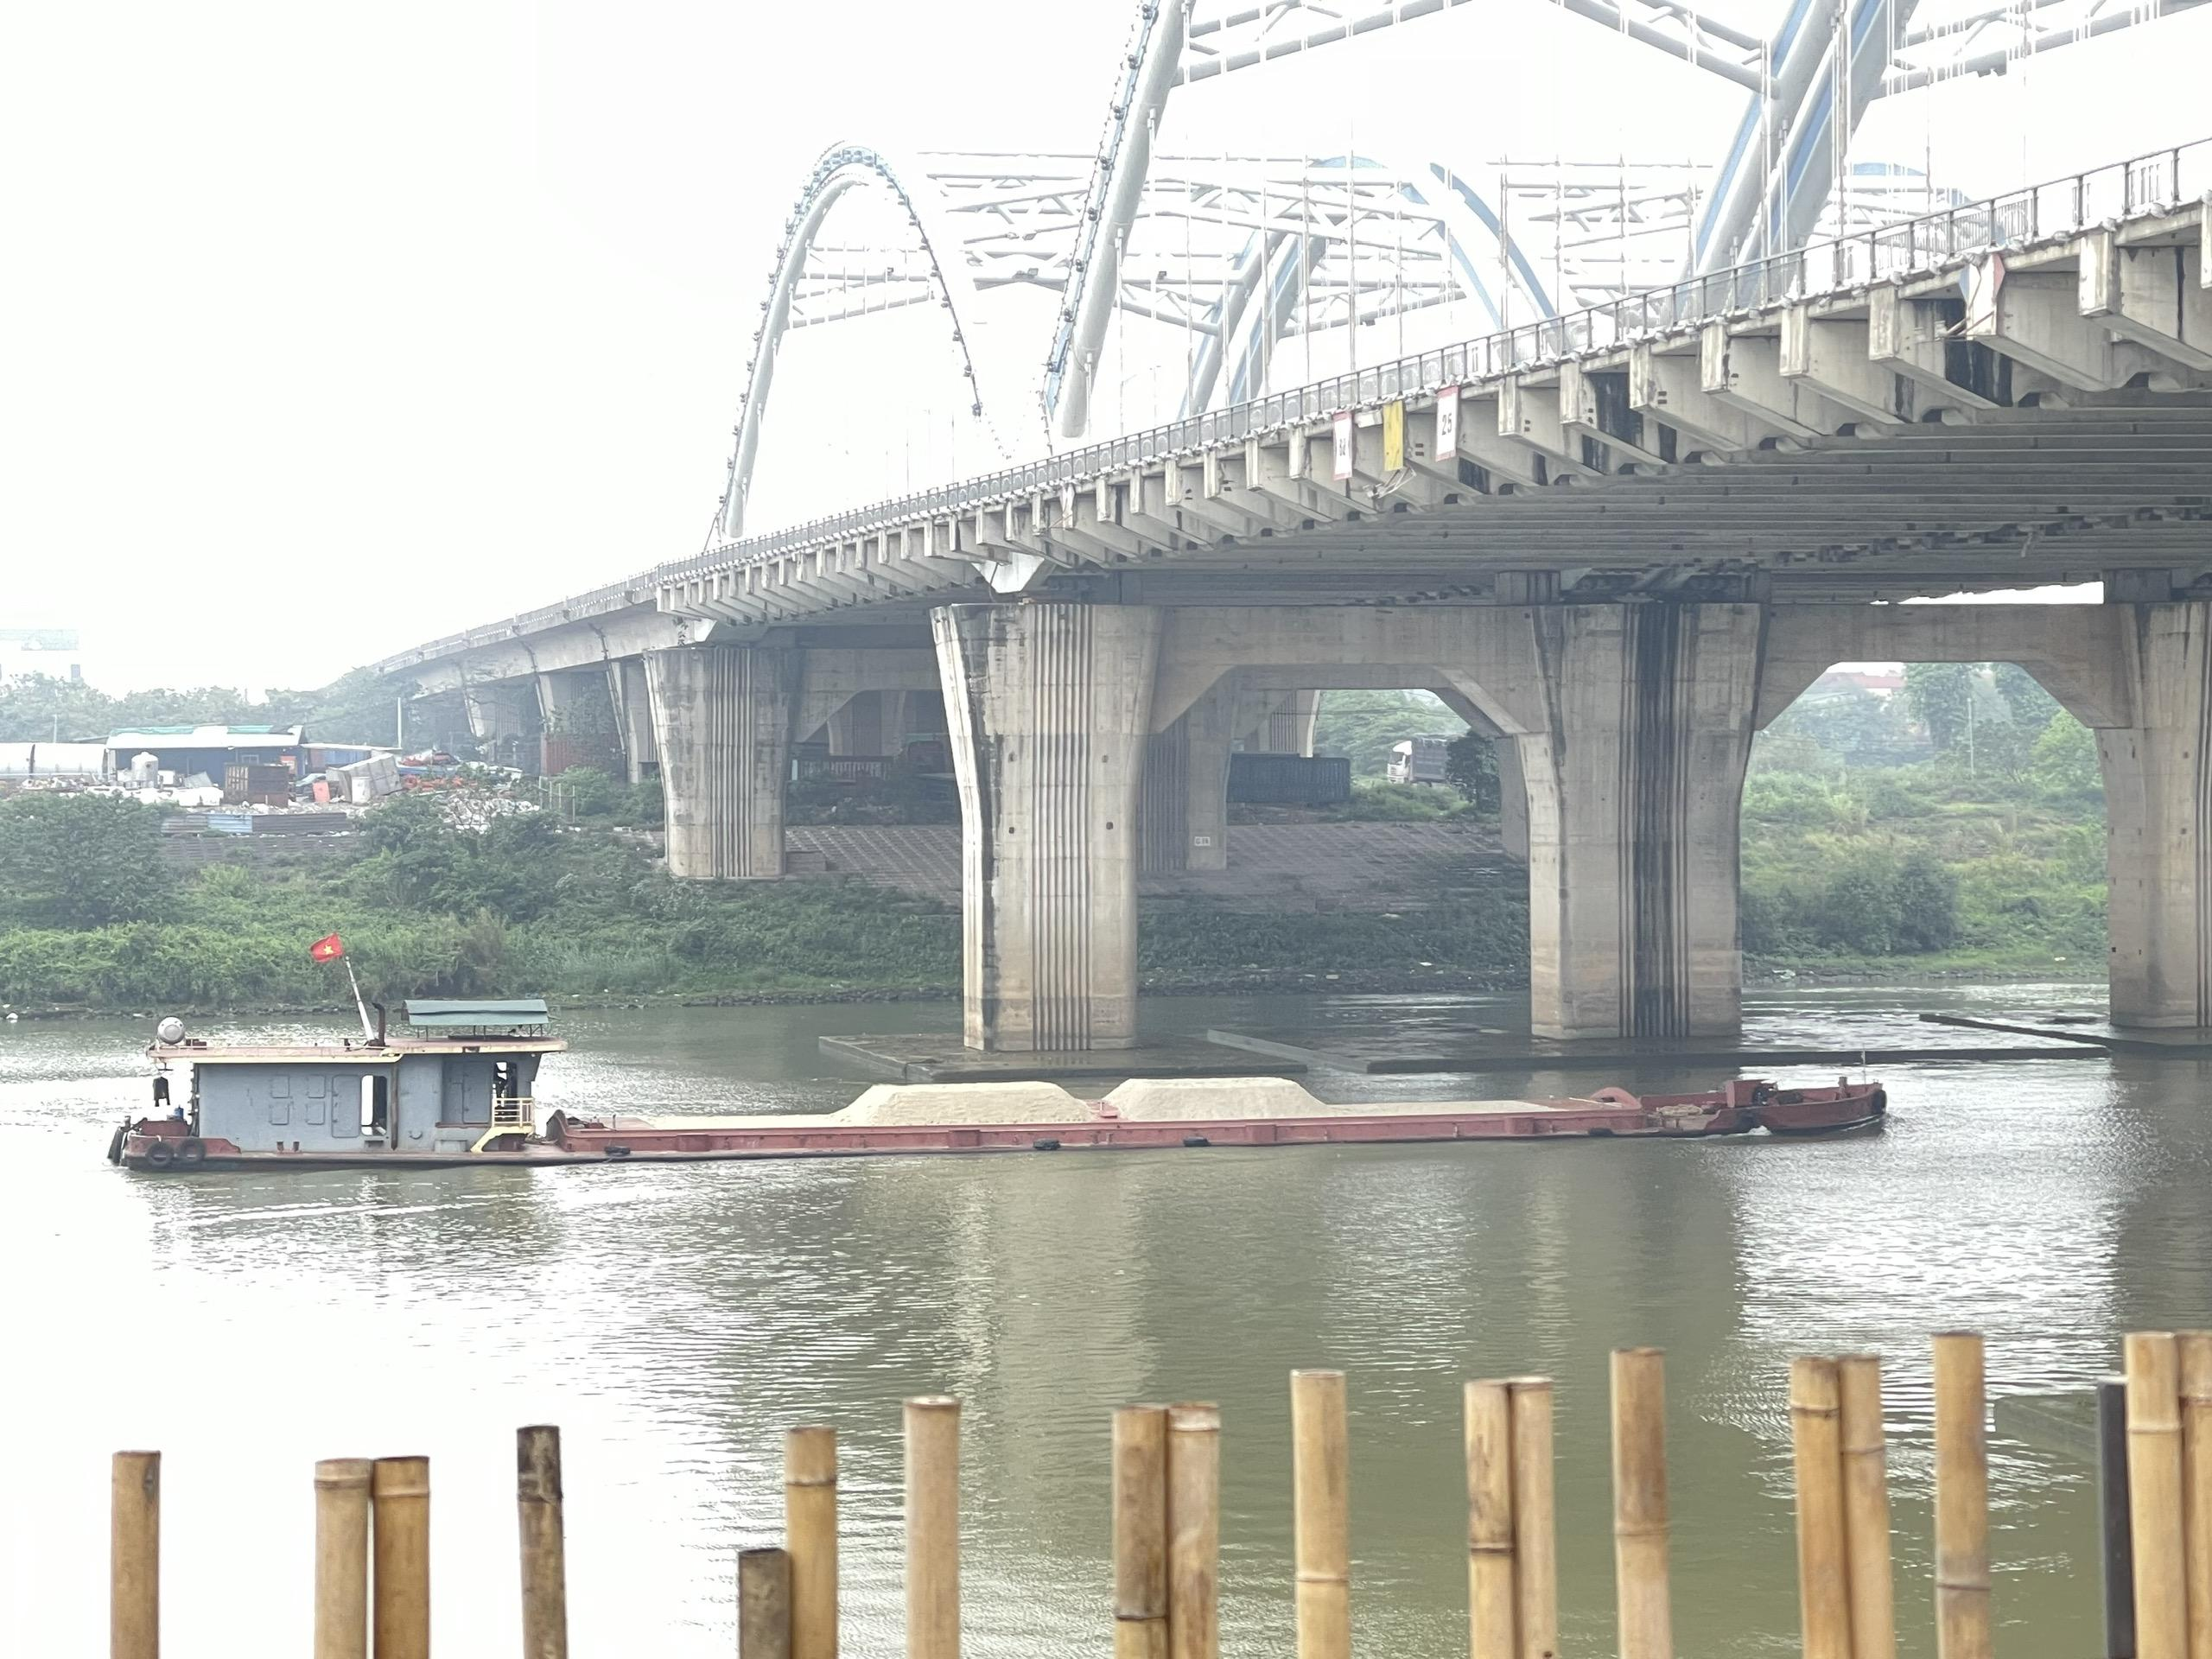Ship: (99, 1030, 1902, 1180)
